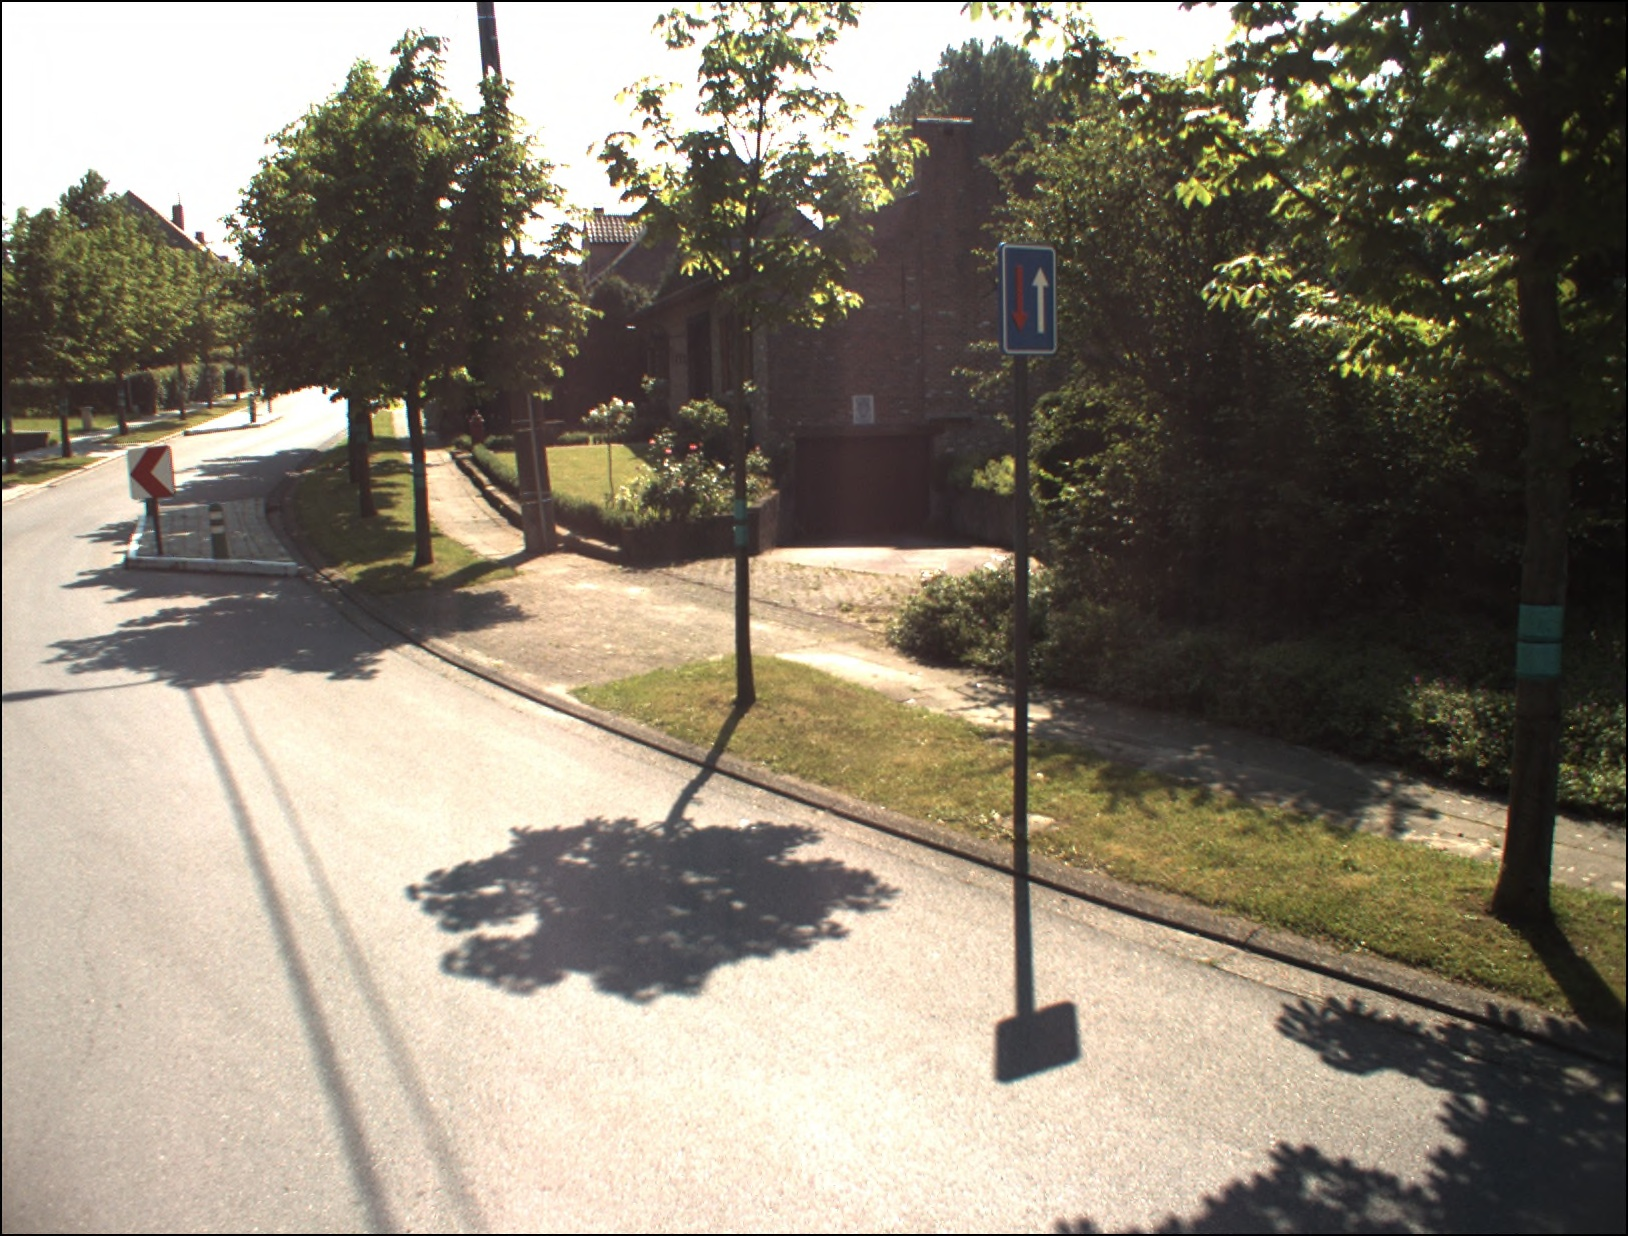roadnarrow1: (1001, 244, 1059, 354)
